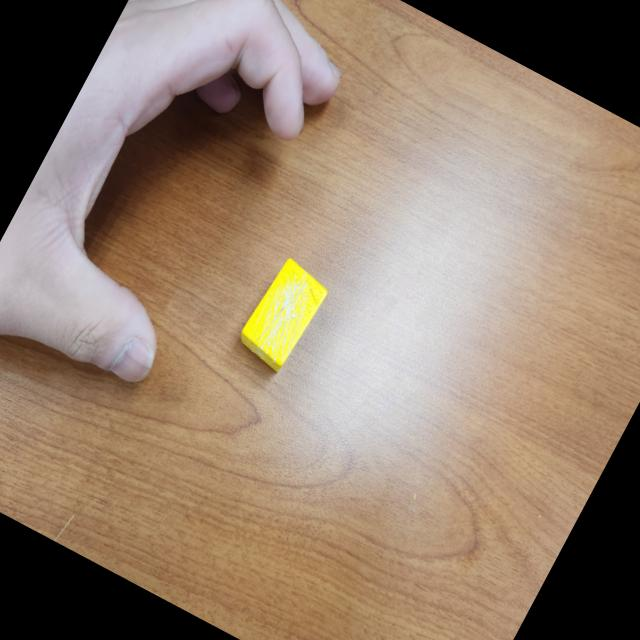broken: (228, 254, 332, 378)
